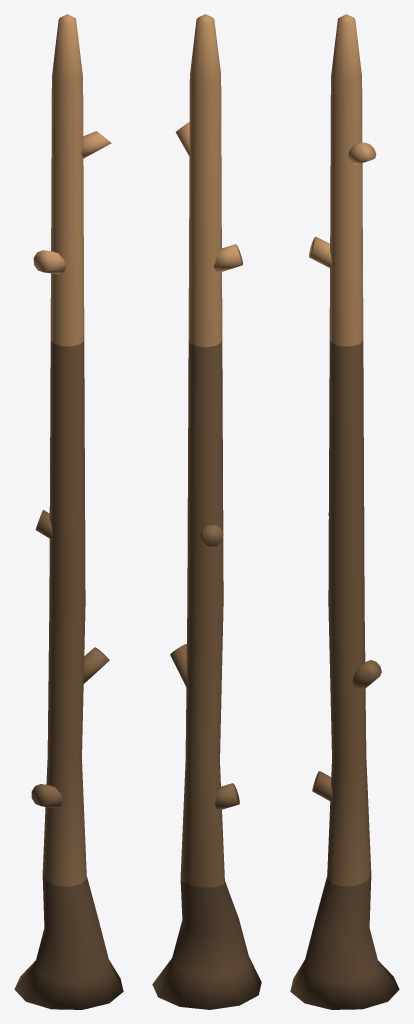
Rendered from tree1.fbx.
3 renders of one model, left to right at view 1: azimuth 30°, elevation 25°; view 2: azimuth 150°, elevation 25°; view 3: azimuth 330°, elevation 25°, orthographic.
Visible parts, largest first — view 1: Circle; view 2: Circle; view 3: Circle.
Boxes of the visible parts, box(x1,y1,x2,y2) form: Circle: box(14, 14, 123, 1009); Circle: box(152, 14, 261, 1009); Circle: box(290, 14, 399, 1009).
Size of the model in its own units: 198 by 1941 by 196.
